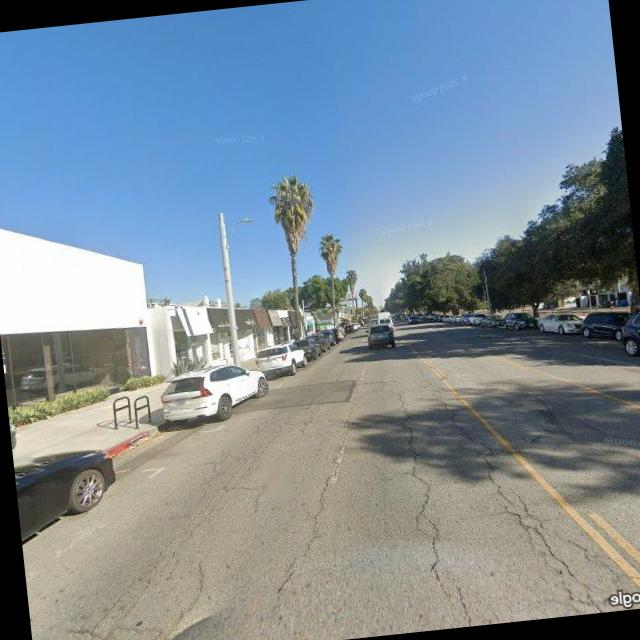crack: (440, 380, 601, 626), (260, 397, 384, 606), (386, 358, 461, 628)
